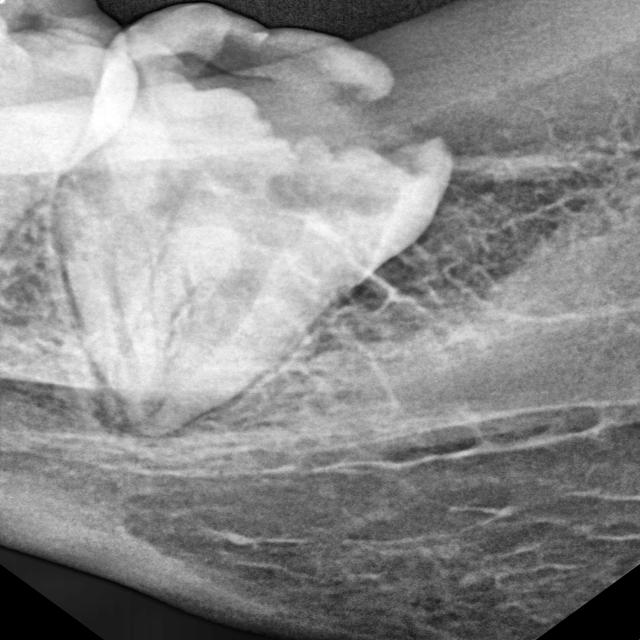Badly Decayed: (43, 0, 493, 455)
